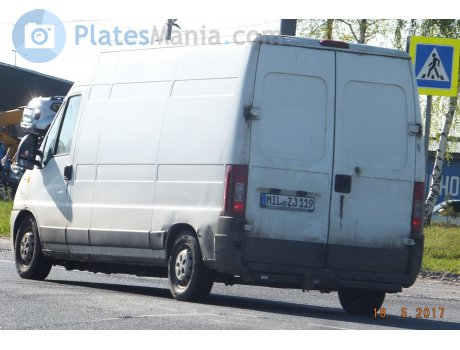License Plates: (267, 194, 309, 206)
